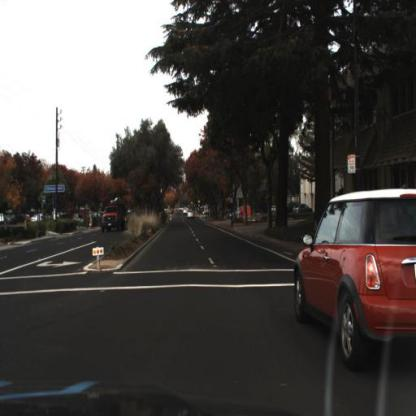car: (295, 193, 416, 374), (101, 201, 128, 235), (188, 210, 196, 221)
